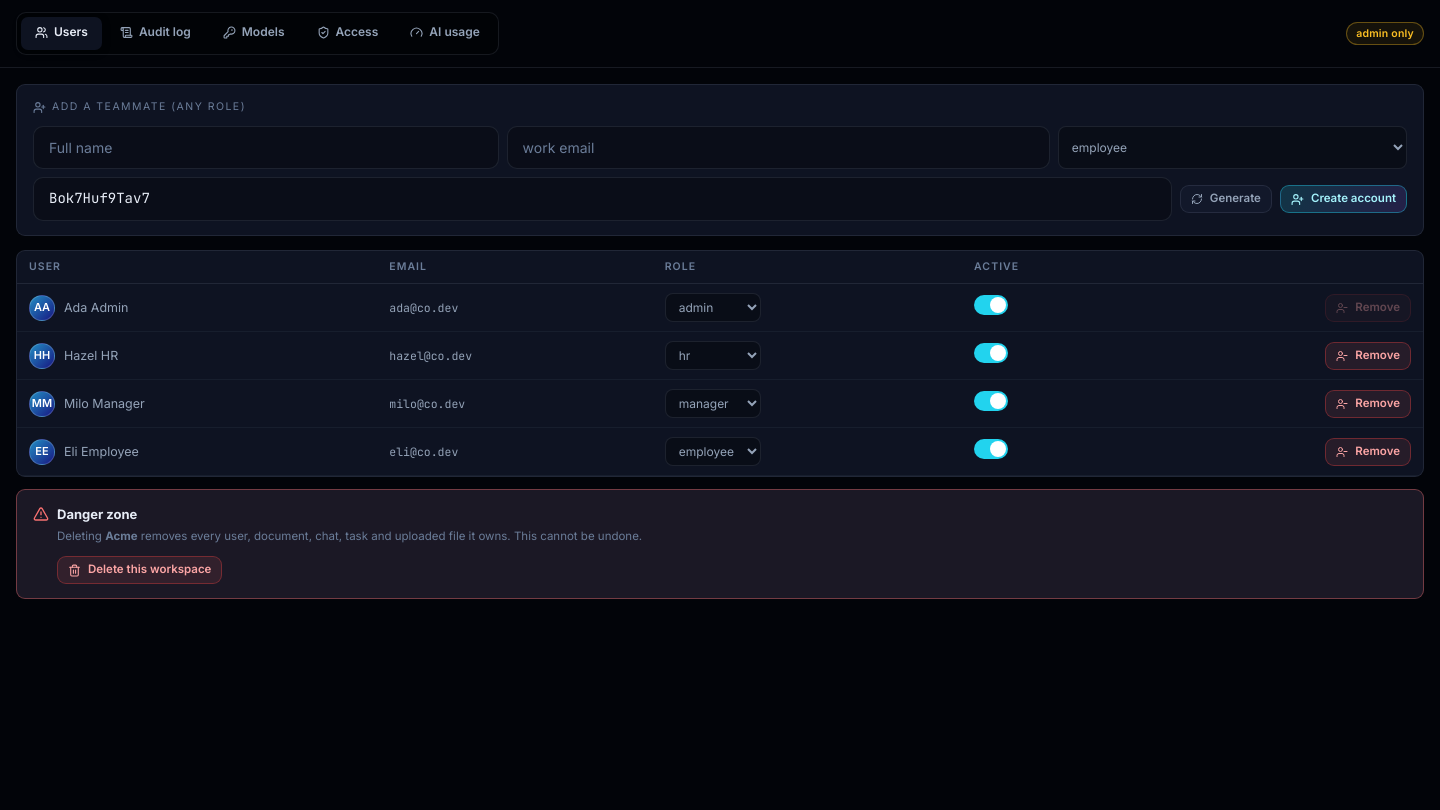
Test: the confirmation › says what moves to you and what is deleted
What coordinates should you click on to do the following:
click the button "Remove" in the row of "Eli Employee"
I would click on:
 (1368, 452)
Its box is [1325,438,1411,466].
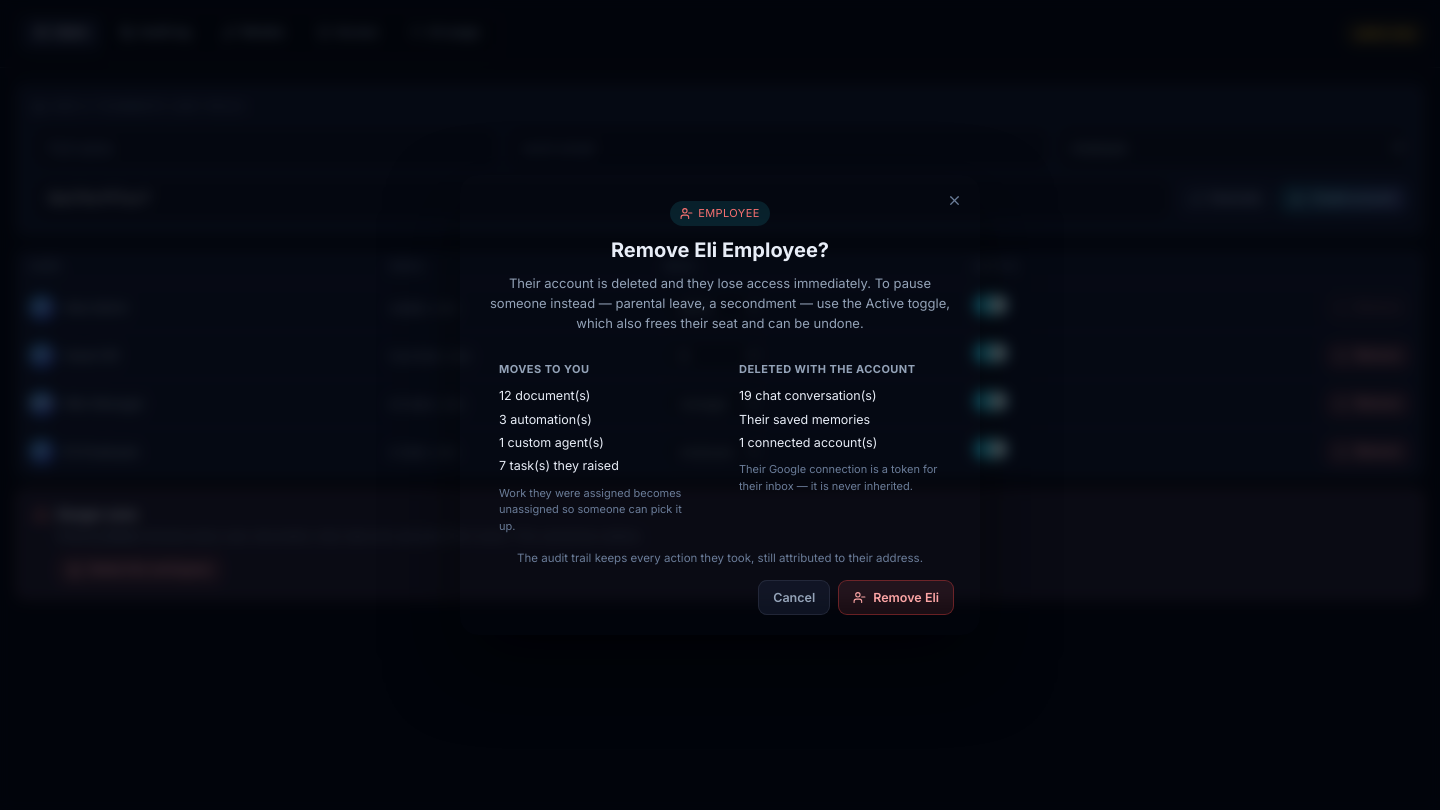
Now the element with test id "remove-dialog" shows "12 document(s)", box [460,175,980,635]
Now the element with test id "remove-dialog" shows "Moves to you", box [499,362,589,376]
Now the element with test id "remove-dialog" shows "3 automation(s)", box [460,175,980,635]
